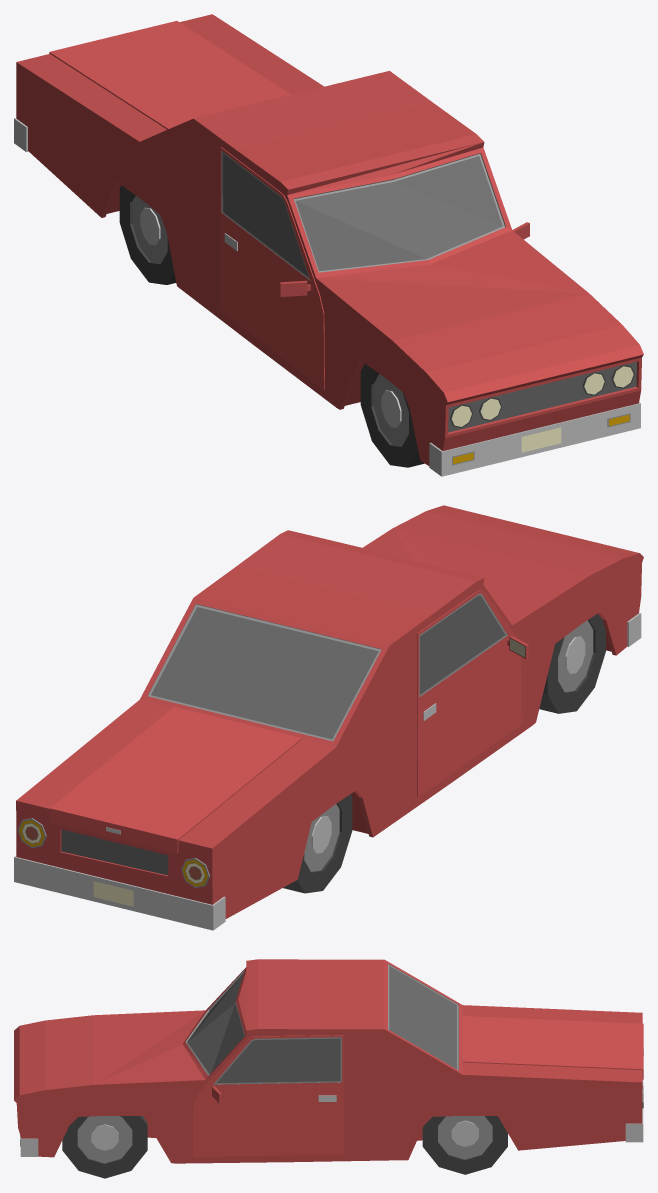
The model's file is vintage car1_2.fbx.
3 renders of one model, top to bottom at view 1: azimuth 30°, elevation 25°; view 2: azimuth 150°, elevation 25°; view 3: azimuth 270°, elevation 25°, orthographic. The views are drawn at different scales.
Parts seen in each view (by area): view 1: gdfg, Cylinder_2_3, Cylinder_2_2; view 2: gdfg, Cylinder_2_3, Cylinder_2_2; view 3: gdfg, Cylinder_2, Cylinder_2_1.
Boxes of the visible parts, <box> form: gdfg: <box>14,14,643,476</box>; Cylinder_2_3: <box>360,363,424,467</box>; Cylinder_2_2: <box>119,185,176,284</box>; gdfg: <box>14,505,643,930</box>; Cylinder_2_3: <box>539,613,605,713</box>; Cylinder_2_2: <box>283,794,352,893</box>; gdfg: <box>14,959,643,1163</box>; Cylinder_2: <box>62,1116,147,1178</box>; Cylinder_2_1: <box>422,1116,507,1174</box>.
Size of the model in its own units: 169 by 134 by 508.
